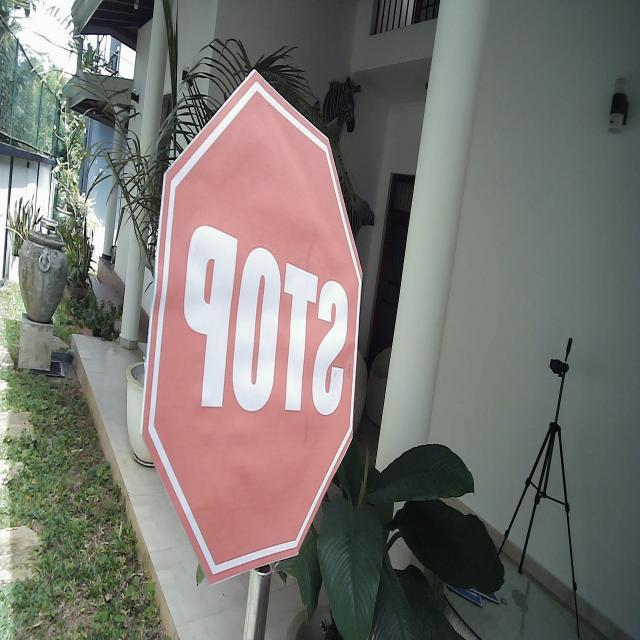stop: (138, 64, 365, 588)
